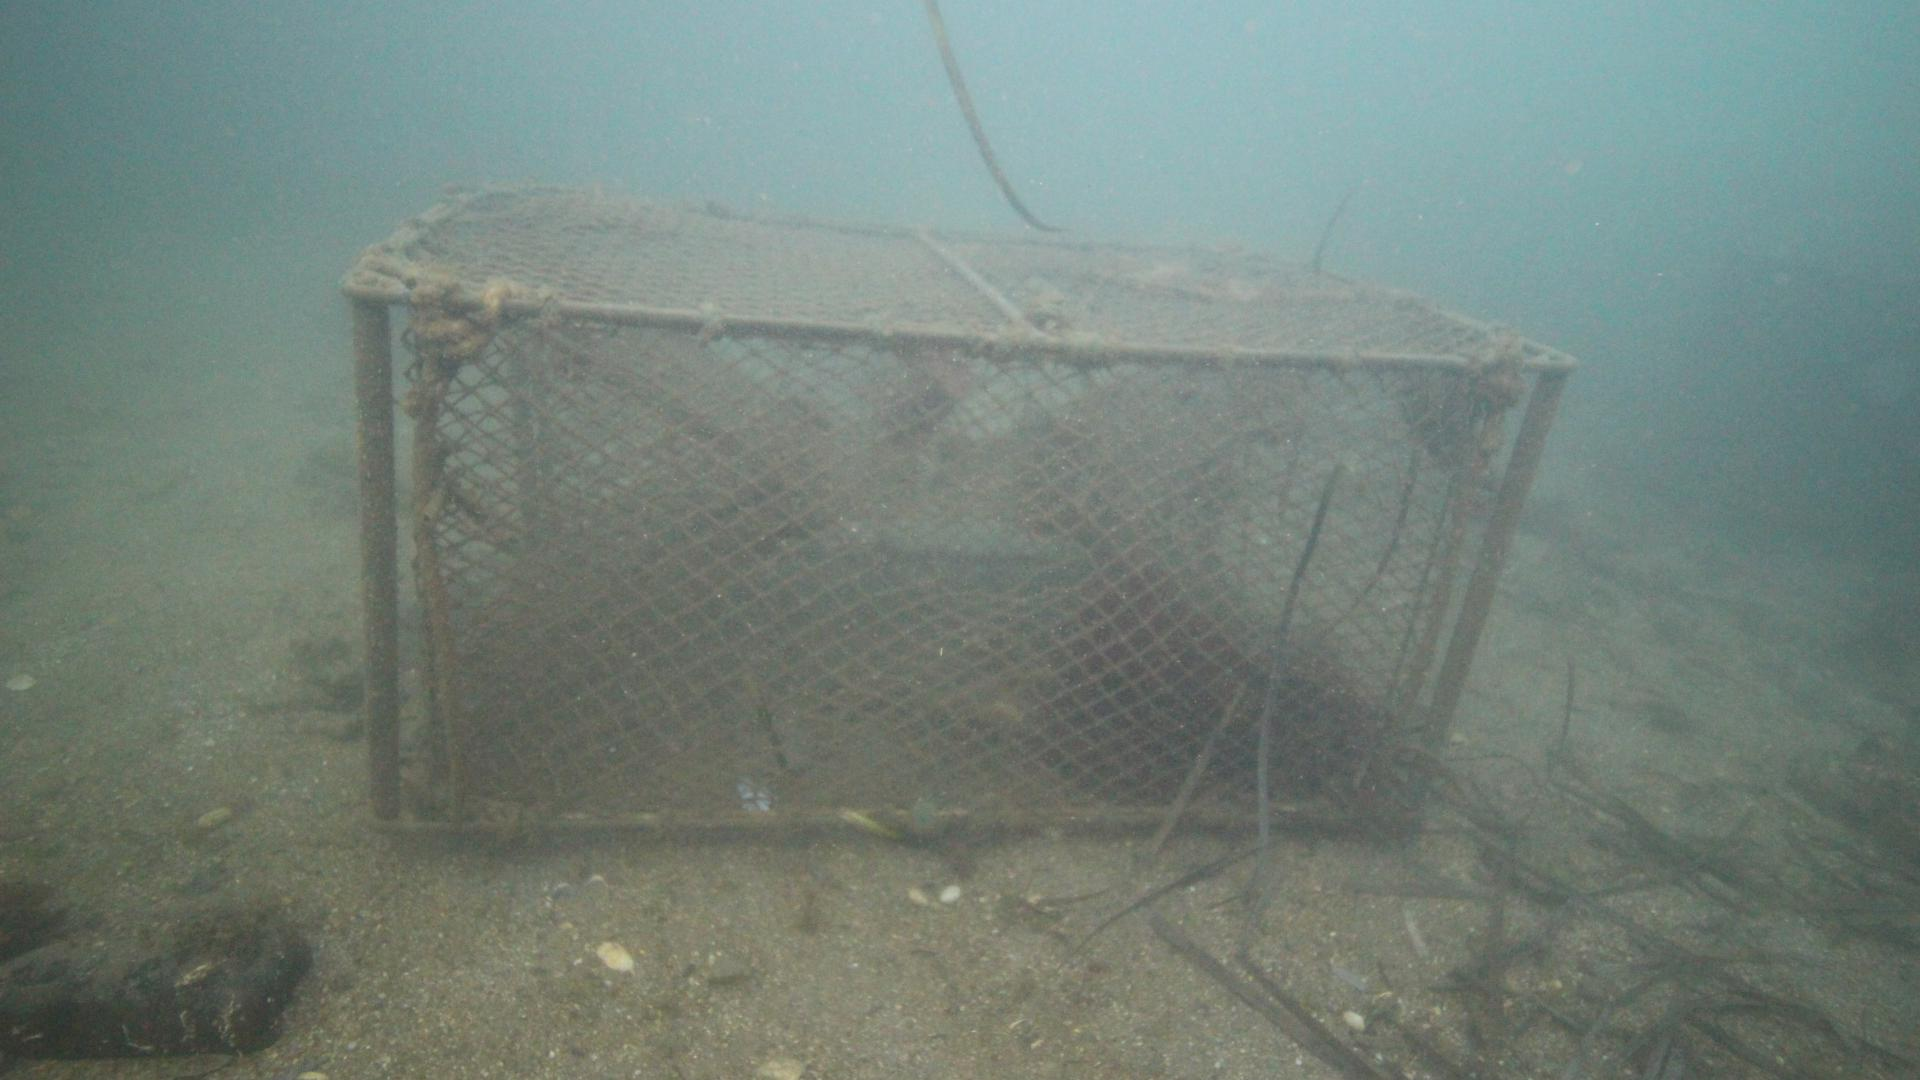rectangular fish trap: (338, 178, 1582, 841)
